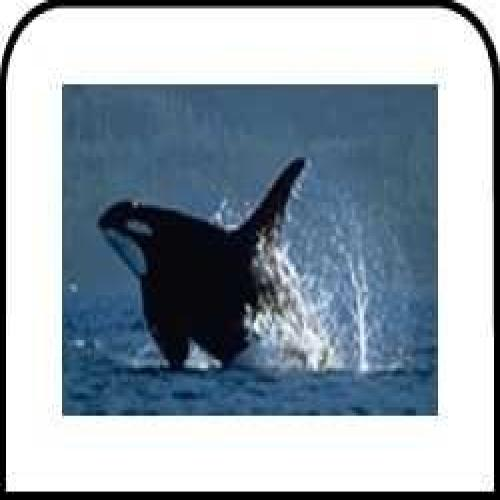killer_whale-endangered: (87, 154, 370, 390)
